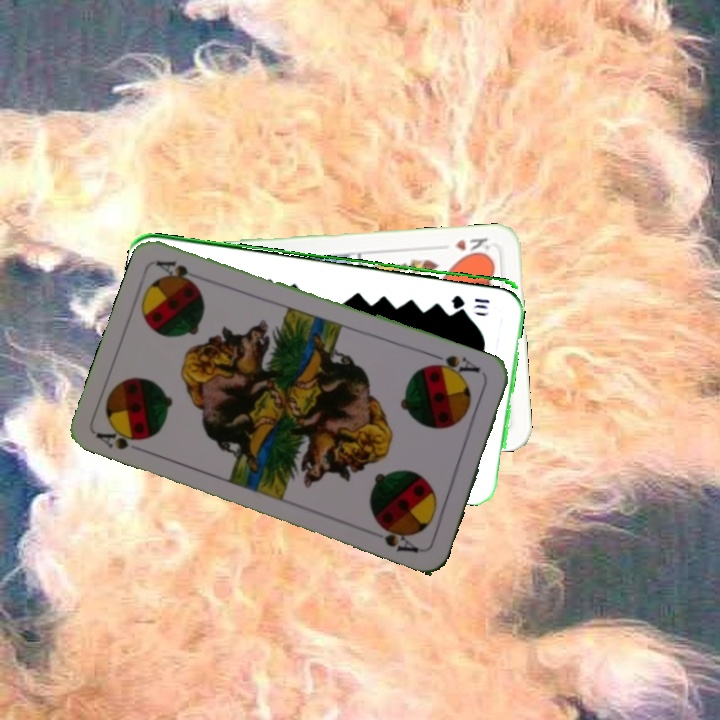G10: (447, 291, 492, 308)
HK: (451, 234, 495, 259)
SA: (93, 421, 152, 456), (427, 350, 483, 382)
